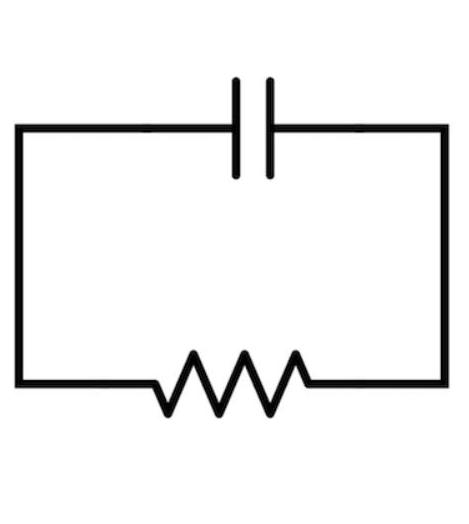resistor: (129, 336, 334, 439)
